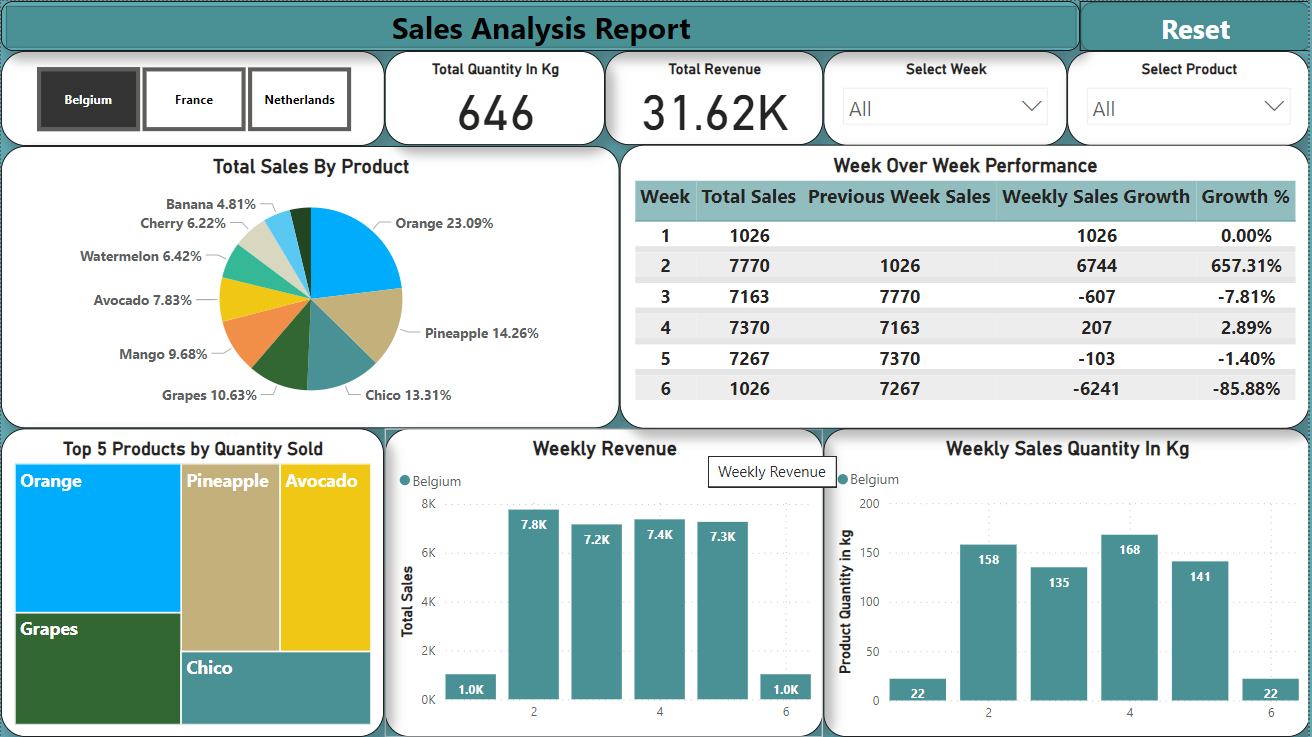

The page's visual inventory and layout, read from the dashboard file:
{"tool":"powerbi","page":{"name":"Page 1","canvas":[1280,720],"ordinal":0},"visuals":[{"type":"slicer","fields":{"Values":["Final table.Country "]},"box":[0,48.9,375.3,92.9],"z":0},{"type":"card","title":"Total Revenue ","fields":{"Values":["Final table.total sales"]},"box":[590.4,48.9,213.9,91.7],"z":1000},{"type":"slicer","title":"Select Week ","fields":{"Values":["Final table.week num"]},"box":[804.3,48.9,238.4,92.9],"z":2000},{"type":"slicer","title":"Select Product","fields":{"Values":["Final table.product_name"]},"box":[1042.7,48.9,237.1,92.9],"z":3000},{"type":"pieChart","title":"Total Sales By Product ","fields":{"Y":["Final table.total sales"],"Category":["Final table.product_name"]},"box":[0,141.8,605.1,276.3],"z":4000},{"type":"columnChart","title":"Weekly Sales Quantity In Kg","fields":{"Category":["Final table.week num"],"Y":["Sum(Final table.weight_kg)"],"Series":["Final table.Country "]},"box":[804.1,418.5,476.2,301.9],"z":5000},{"type":"columnChart","title":"Weekly Revenue ","fields":{"Y":["Final table.total sales"],"Category":["Final table.week num"],"Series":["Final table.Country "]},"box":[375.3,418.1,429.1,301.9],"z":6000},{"type":"tableEx","title":"Week Over Week Performance ","fields":{"Values":["Final table.week num","Final table.total sales","Final table.previous week","Final table.wow","Final table.Growth %"]},"box":[605.1,140.6,674.8,277.5],"z":7000},{"type":"treemap","title":"Top 5 Products by Quantity Sold","fields":{"Group":["Final table.product_name"],"Values":["Sum(Final table.weight_kg)"]},"box":[0,418.1,374.1,301.9],"z":8000},{"type":"shape","title":"Sal","box":[0,0,1054.9,48.9],"z":9000},{"type":"card","title":"Total Quantity In Kg","fields":{"Values":["Sum(Final table.weight_kg)"]},"box":[375.3,48.9,215.1,91.7],"z":10000},{"type":"shape","box":[1054.9,0,224.9,48.9],"z":11000}]}

Visuals, with their boxes in screenshot pixels (x1, y1, x2, y2), scaled from the page's 1280x720 canvas onto the 1312x737 screenshot:
slicer - Final table.Country : 0, 50, 385, 145
"Total Revenue " card: 605, 50, 824, 144
"Select Week " slicer: 824, 50, 1069, 145
"Select Product" slicer: 1069, 50, 1311, 145
"Total Sales By Product " pieChart: 0, 145, 620, 428
"Weekly Sales Quantity In Kg" columnChart: 824, 428, 1311, 736
"Weekly Revenue " columnChart: 385, 428, 825, 736
"Week Over Week Performance " tableEx: 620, 144, 1311, 428
"Top 5 Products by Quantity Sold" treemap: 0, 428, 383, 736
"Sal" shape: 0, 0, 1081, 50
"Total Quantity In Kg" card: 385, 50, 605, 144
shape: 1081, 0, 1311, 50
